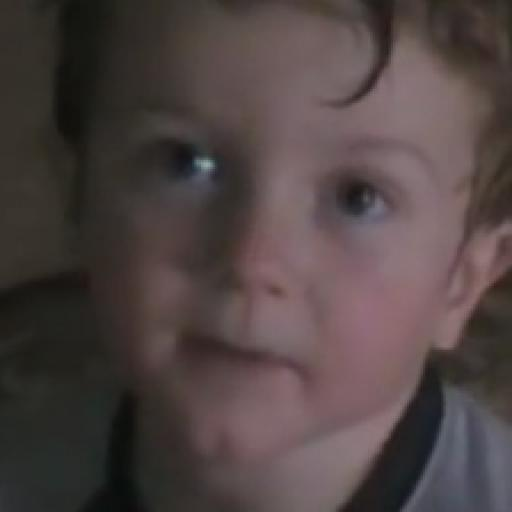Autism: (57, 0, 509, 507)
